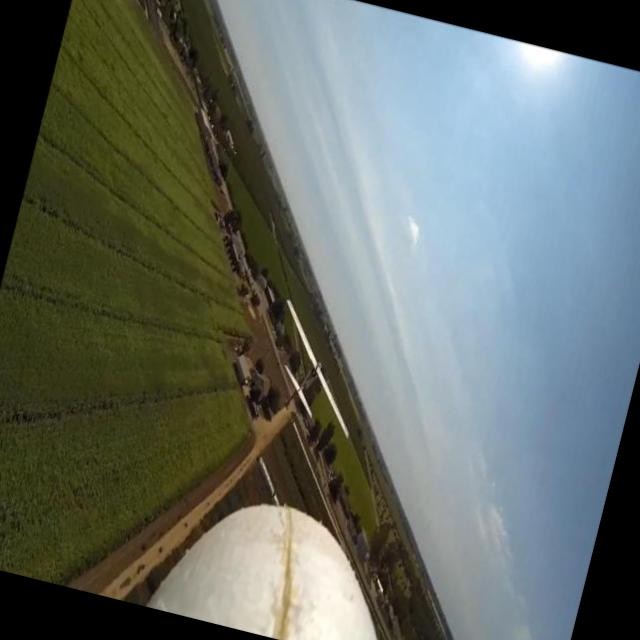UAV: (236, 268, 414, 472)
